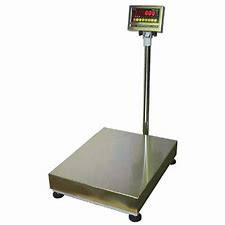Industrial Scale: (46, 4, 177, 221)
